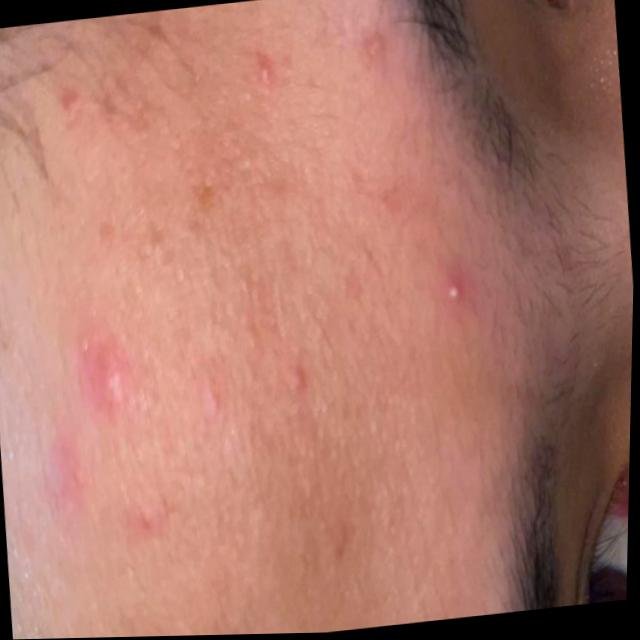papule: (22, 241, 212, 578)
